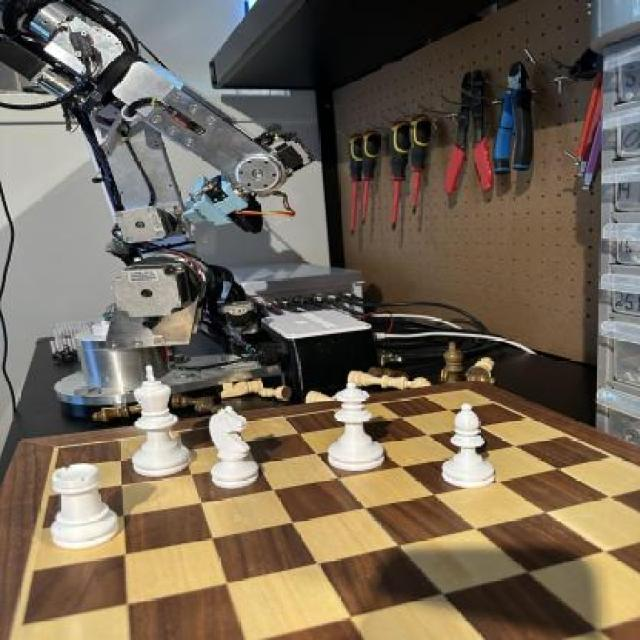black-rook: (429, 398, 502, 489)
white-bishop: (120, 365, 198, 477)
white-king: (201, 406, 267, 491)
white-pawn: (312, 380, 390, 473)
white-queen: (37, 462, 125, 554)
